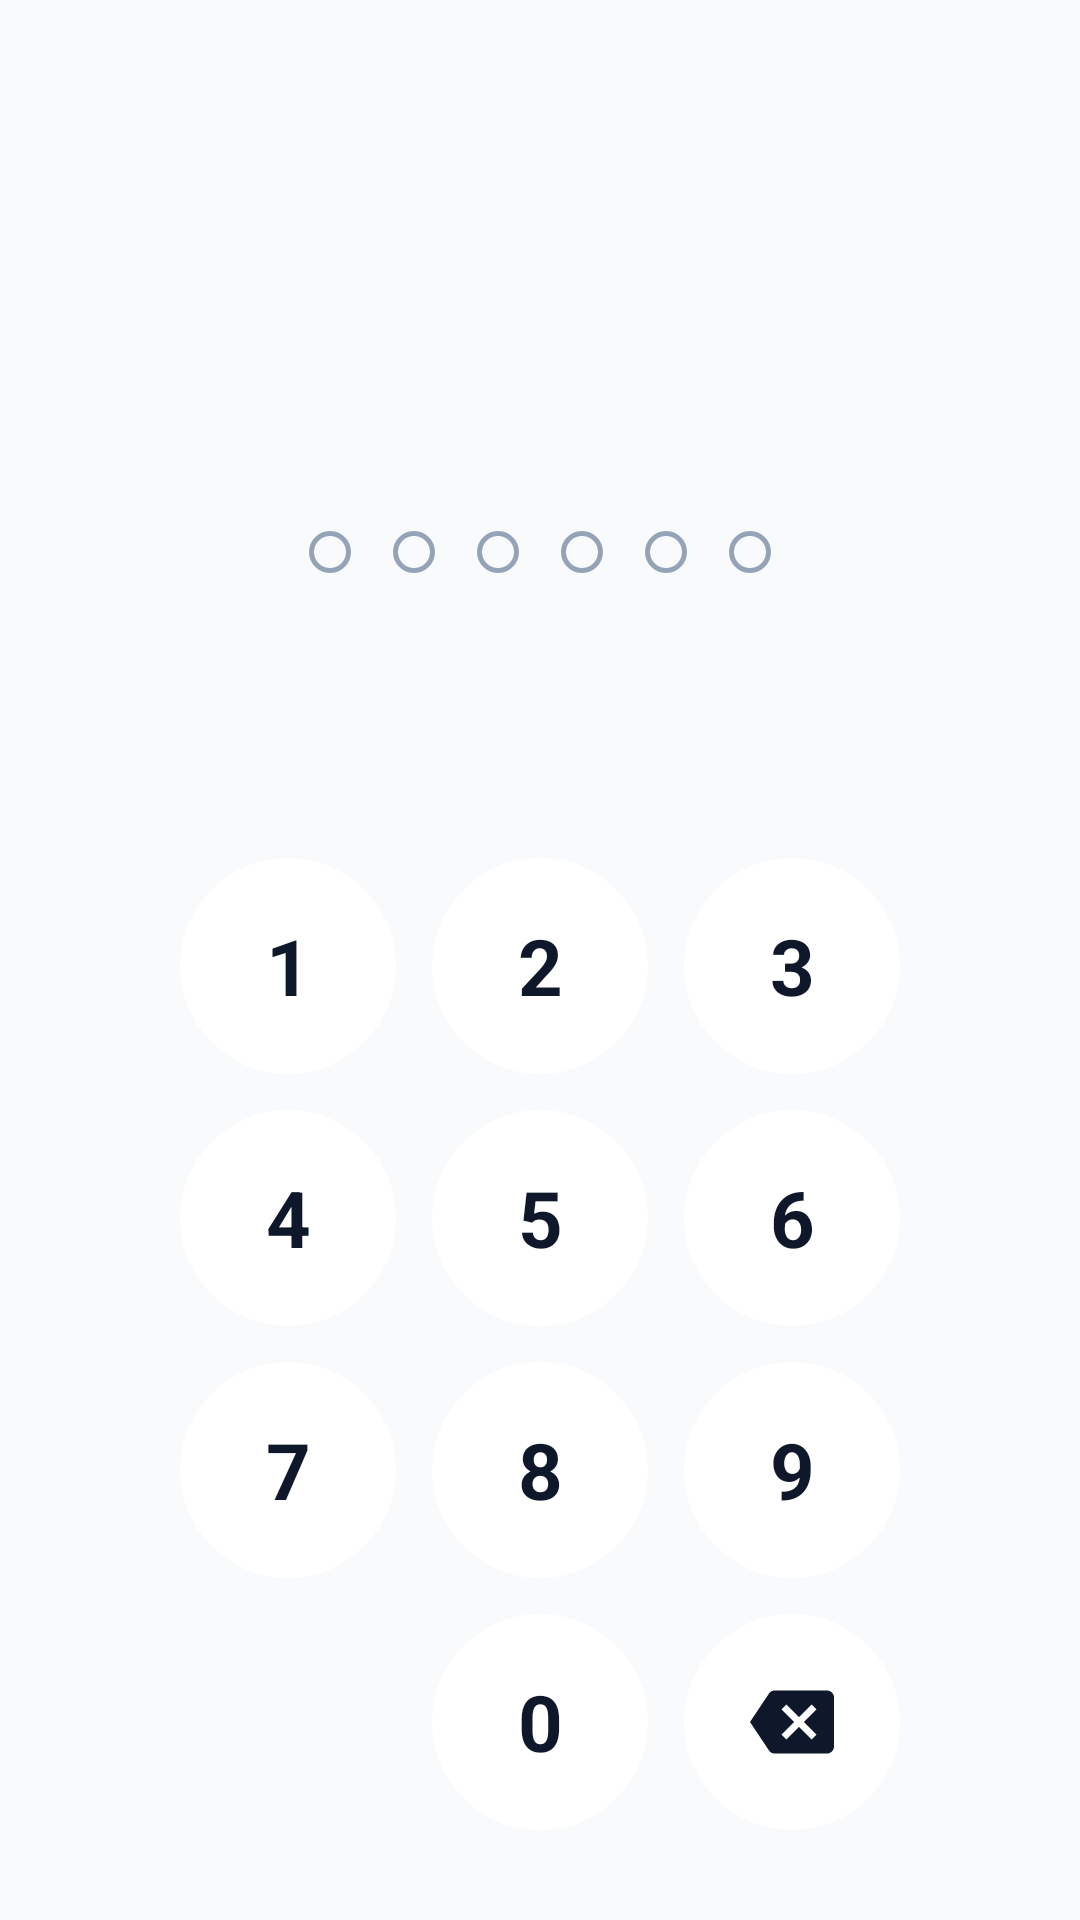

Icons on this 1080 × 1920 Android screen, each with its box as (x1, y1, x2, y2):
dot empty: (309, 531, 351, 573), (393, 531, 435, 573), (477, 531, 519, 573), (561, 531, 603, 573), (645, 531, 687, 573), (729, 531, 771, 573)
Xóa số vừa nhập: (750, 1690, 834, 1754)
